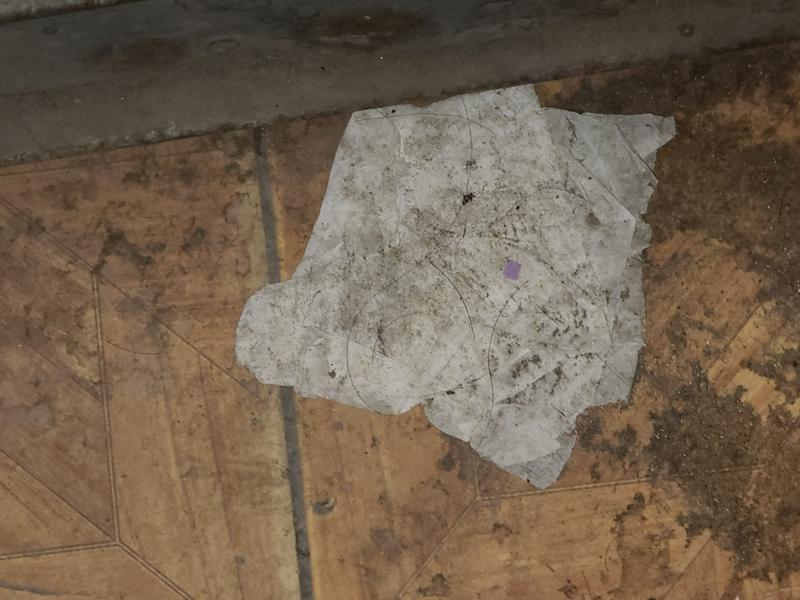papel: (233, 86, 679, 490)
